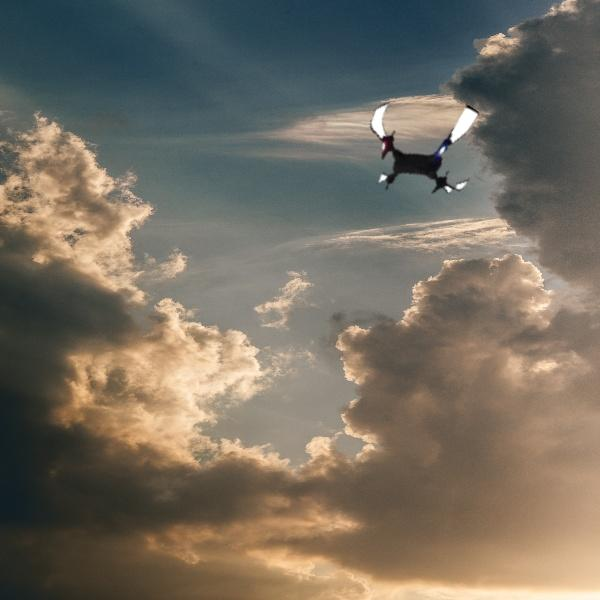drone: (360, 87, 484, 211)
